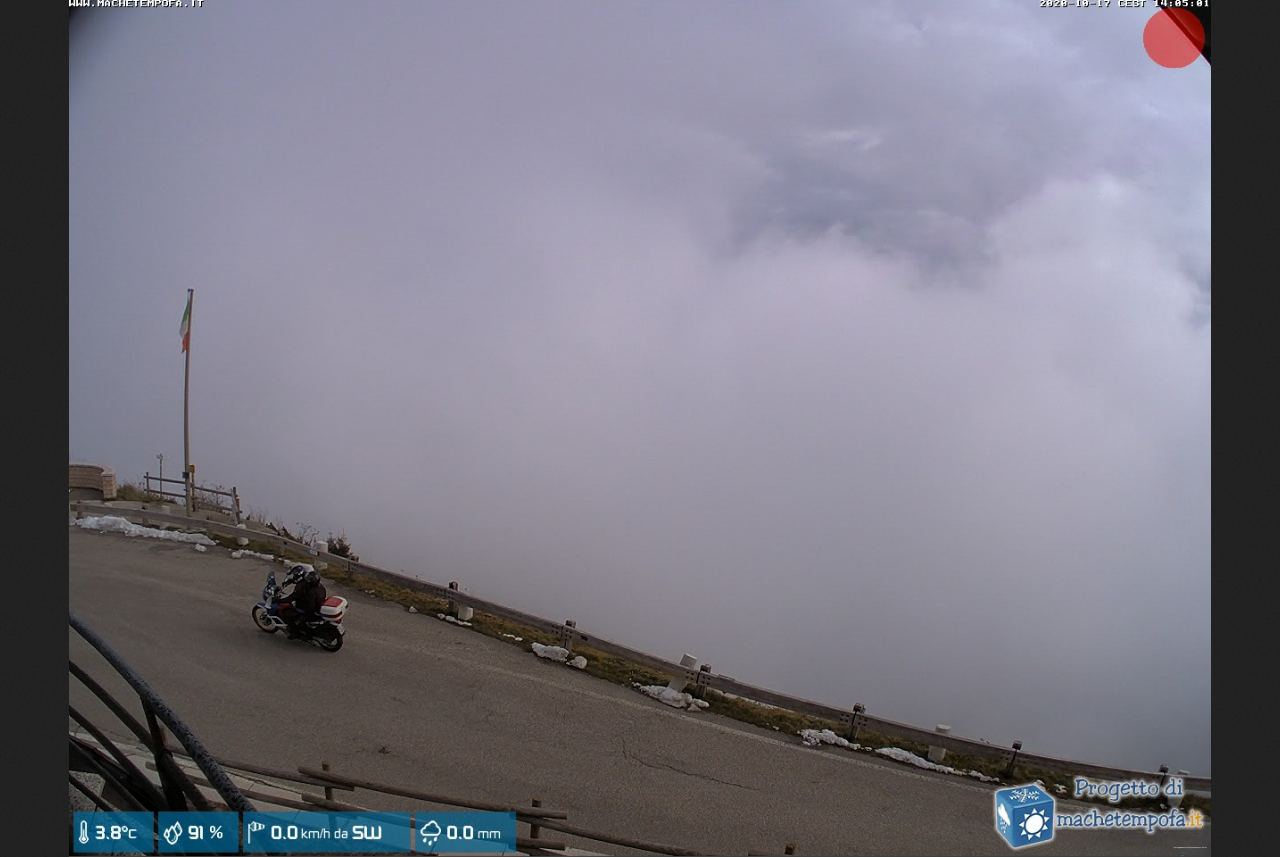no: (175, 291, 193, 355)
